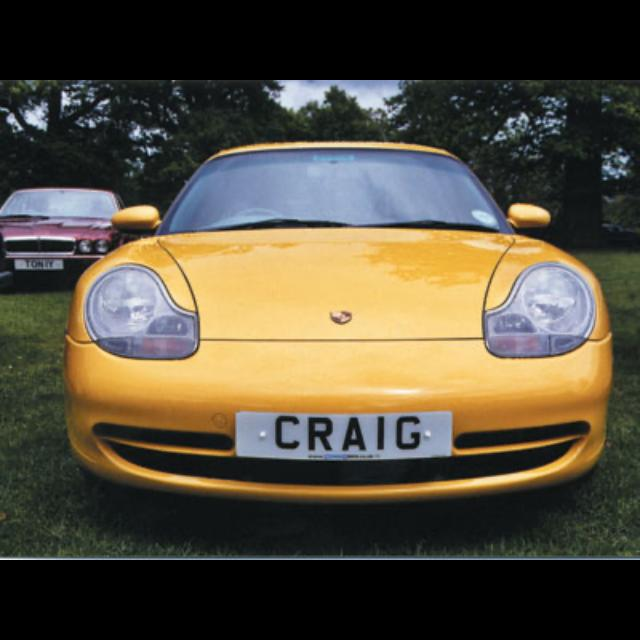carPlate: (235, 412, 452, 458)
